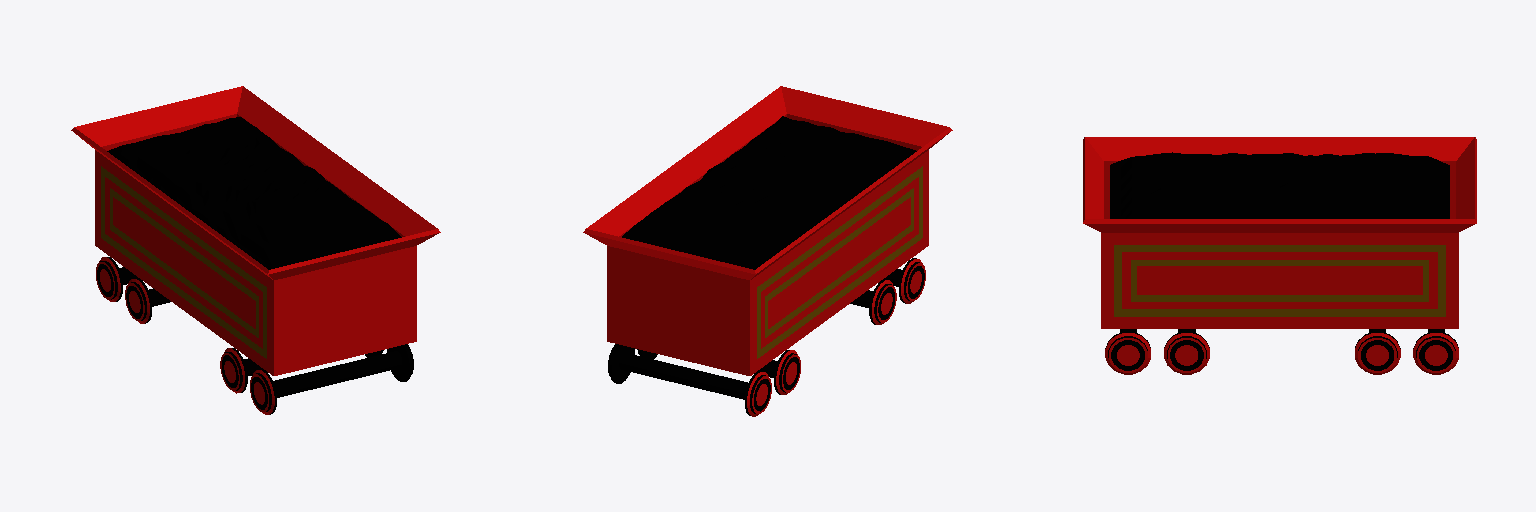
Rendered from vehicule_wagonCharbon.obj.
3 views of the same model, side by side, from view 1: azimuth 30°, elevation 25°; view 2: azimuth 150°, elevation 25°; view 3: azimuth 270°, elevation 25° (orthographic).
Parts seen in each view (by area): view 1: Cube_Cube.005, Cube.001_Cube.006, roues.004_Circle.002, roues.005_Circle.004, roues.007_Circle.006, roues.006_Circle.005; view 2: Cube_Cube.005, Cube.001_Cube.006, roues.006_Circle.005, roues.007_Circle.006, roues.005_Circle.004, roues.004_Circle.002; view 3: Cube_Cube.005, Cube.001_Cube.006, roues.005_Circle.004, roues.007_Circle.006, roues.006_Circle.005, roues.004_Circle.002.
Boxes of the visible parts, x1,y1,x2,y2 form: Cube_Cube.005: [71, 86, 440, 375]; Cube.001_Cube.006: [107, 117, 401, 269]; roues.004_Circle.002: [250, 344, 413, 414]; roues.005_Circle.004: [220, 348, 383, 393]; roues.007_Circle.006: [125, 278, 170, 323]; roues.006_Circle.005: [96, 257, 142, 301]; Cube_Cube.005: [583, 86, 952, 375]; Cube.001_Cube.006: [622, 116, 916, 269]; roues.006_Circle.005: [608, 344, 771, 416]; roues.007_Circle.006: [637, 349, 800, 394]; roues.005_Circle.004: [850, 280, 896, 324]; roues.004_Circle.002: [880, 258, 925, 303]; Cube_Cube.005: [1083, 137, 1476, 328]; Cube.001_Cube.006: [1110, 152, 1449, 218]; roues.005_Circle.004: [1164, 329, 1209, 374]; roues.007_Circle.006: [1355, 329, 1400, 374]; roues.006_Circle.005: [1413, 329, 1458, 374]; roues.004_Circle.002: [1105, 329, 1150, 374].
Size of the model in its own units: 1.44 by 1.36 by 2.86.